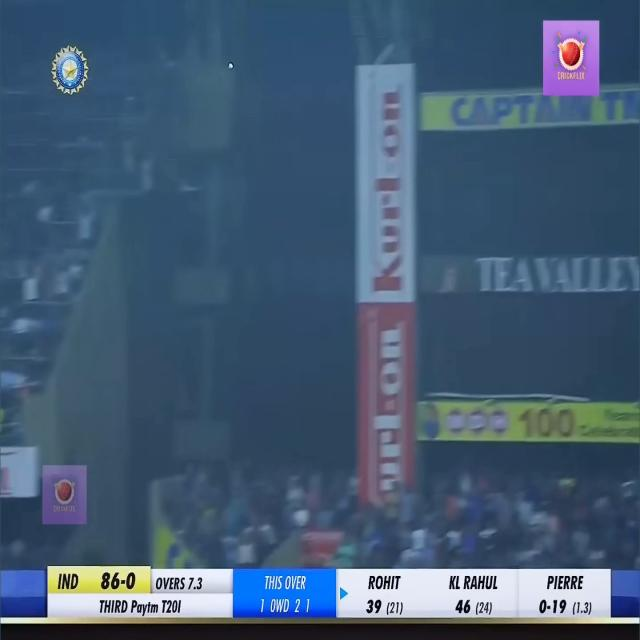fully_visible: (129, 593, 162, 626)
